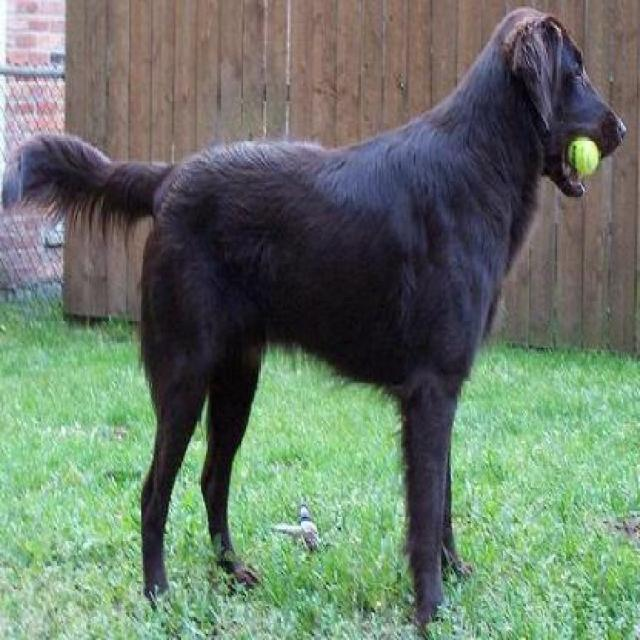Dog: (3, 5, 628, 626)
